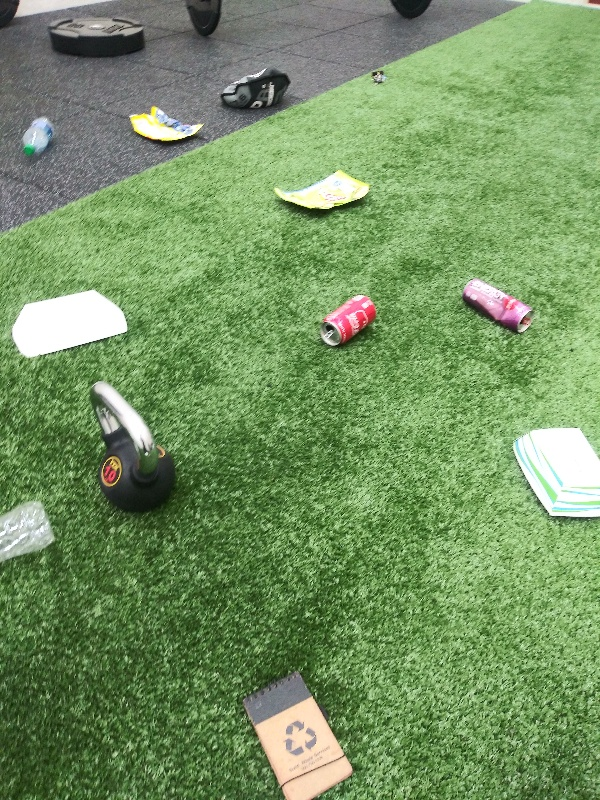bag: (267, 167, 375, 216), (124, 101, 208, 143)
bottle: (1, 497, 62, 569), (16, 114, 61, 159)
can: (458, 274, 540, 341), (312, 292, 381, 348)
plate: (8, 284, 130, 364), (508, 417, 600, 521)
